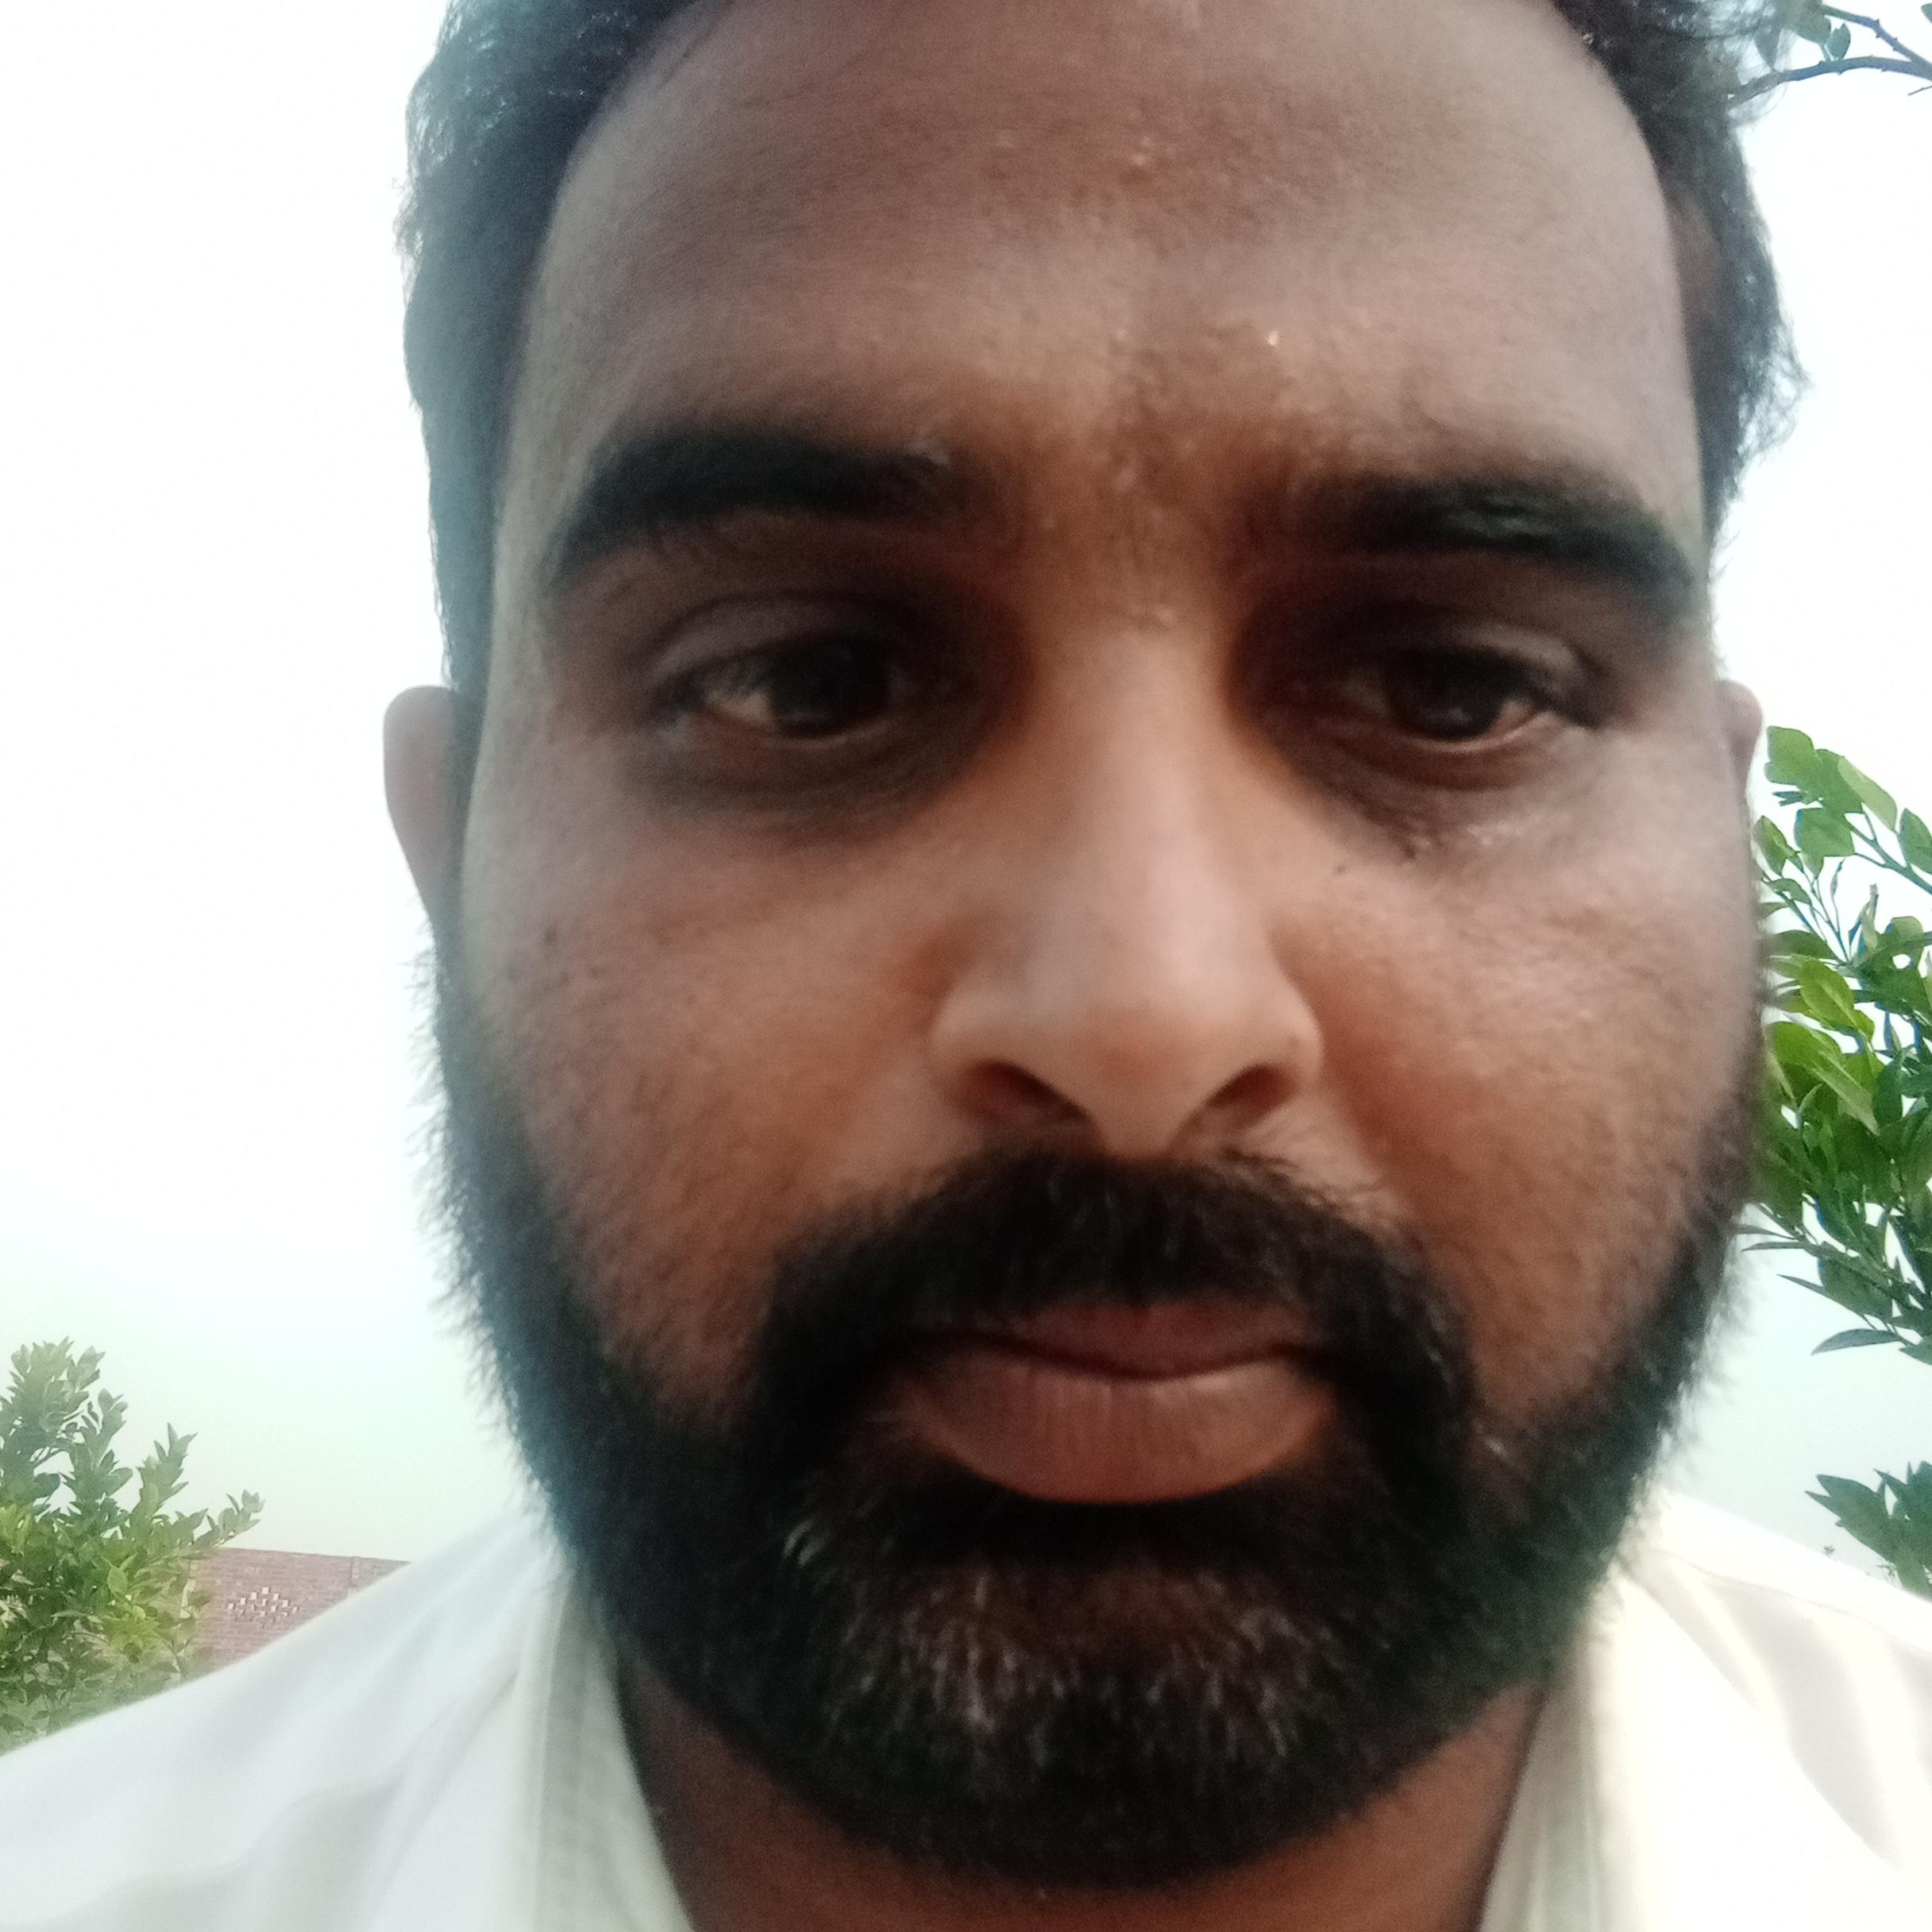Acne: (1113, 134, 1169, 182), (1106, 458, 1146, 510), (1568, 879, 1608, 925), (1559, 1001, 1596, 1042)
Eyebags: (1215, 685, 1640, 878), (630, 672, 1024, 842)
